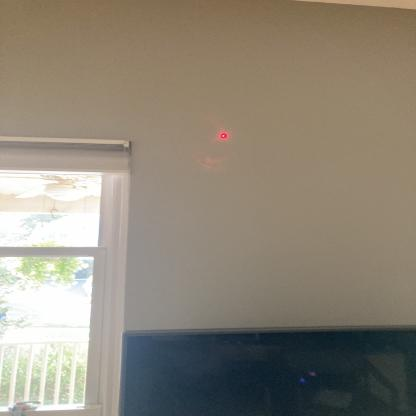target: (219, 129, 233, 143)
